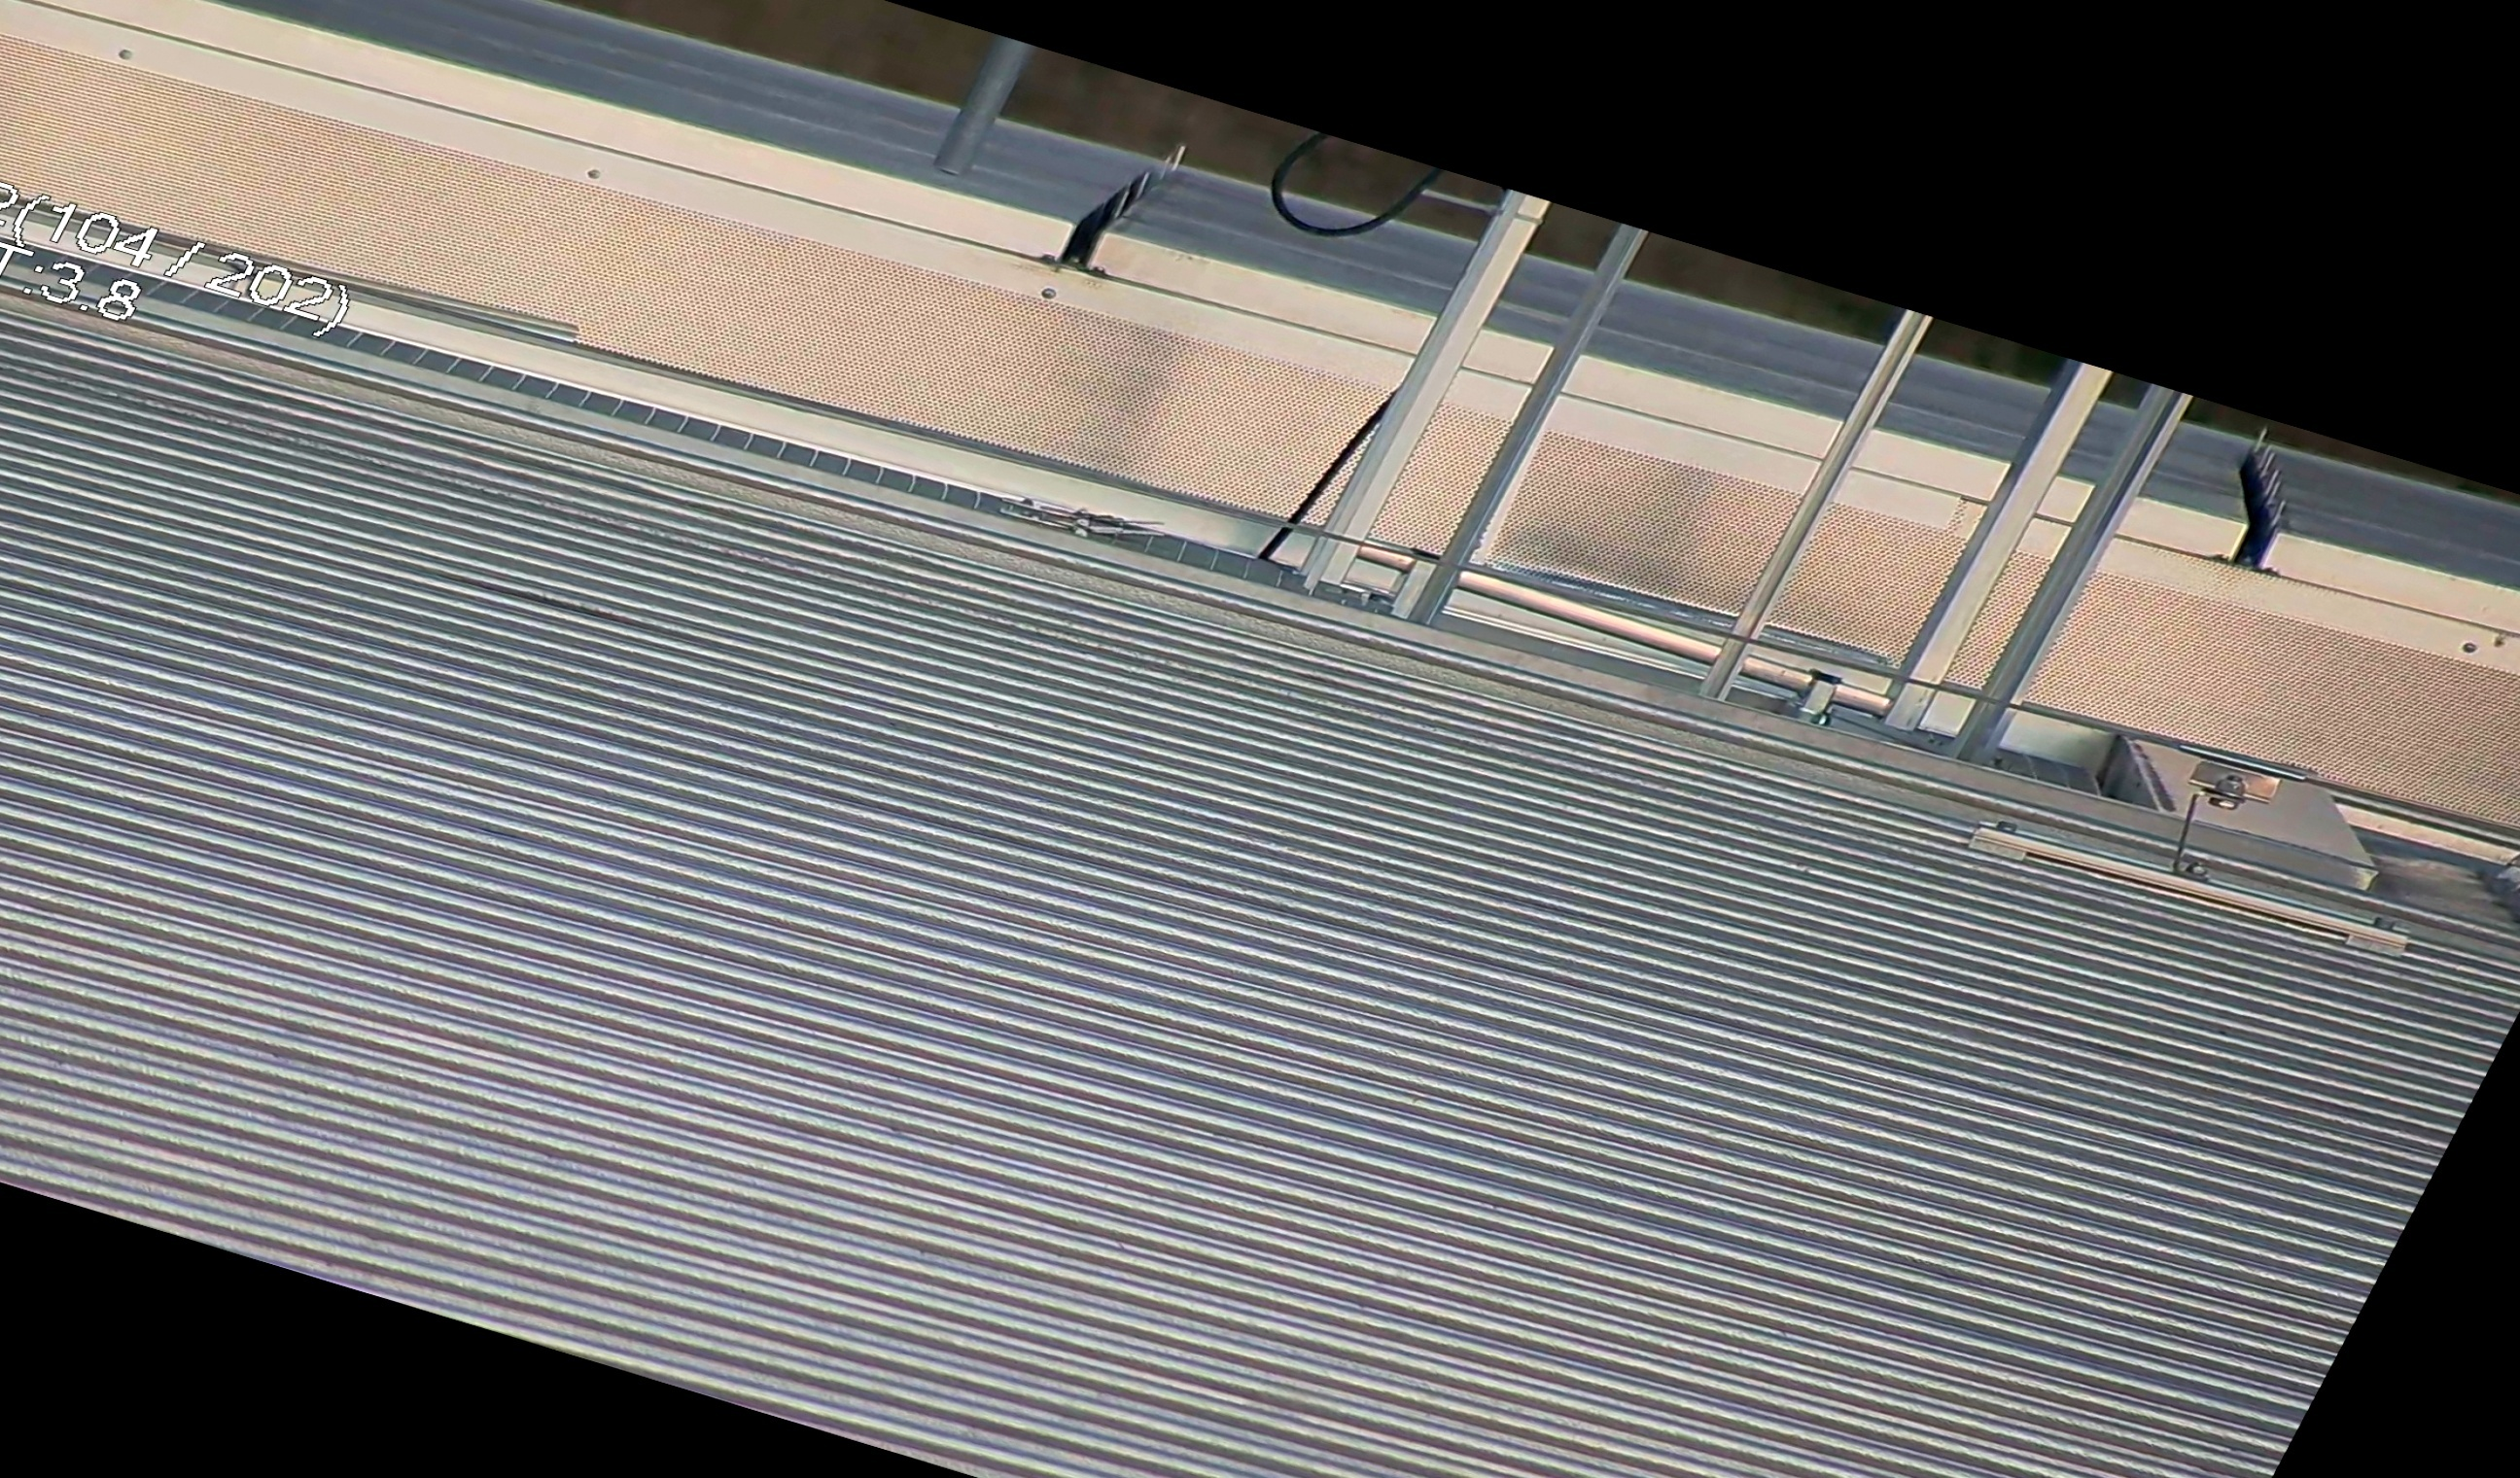Other: (2181, 421, 2353, 588)
